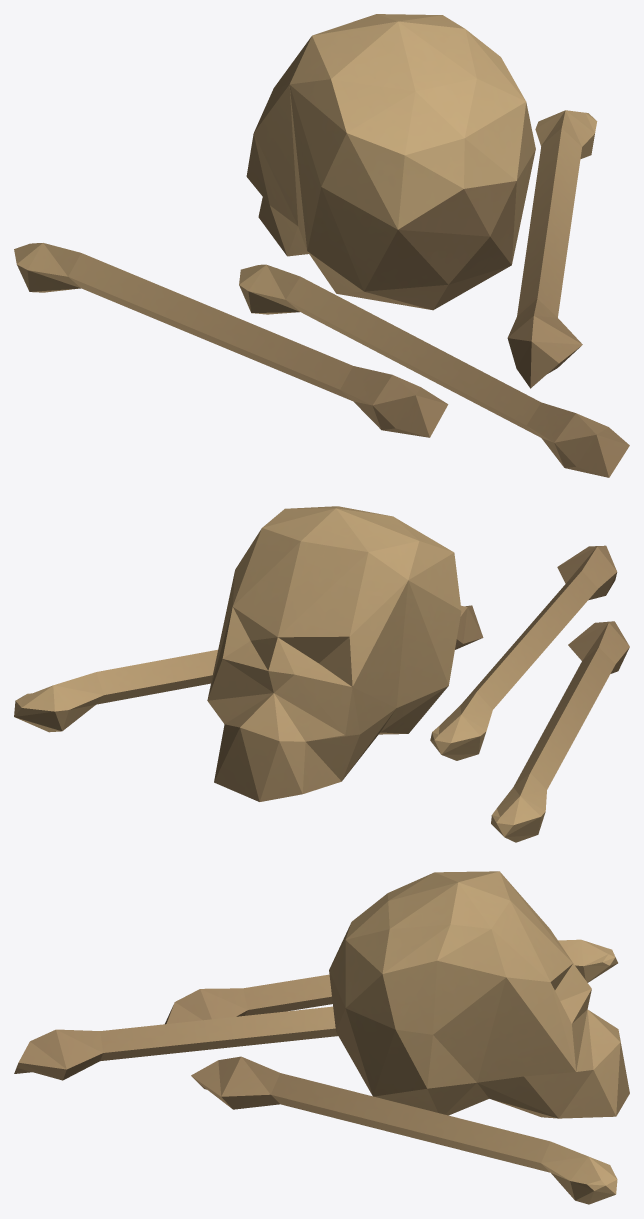
File: Skull_3C.fbx
3 views of the same model, one above another, from view 1: azimuth 30°, elevation 25°; view 2: azimuth 150°, elevation 25°; view 3: azimuth 270°, elevation 25° (orthographic). The views are drawn at different scales.
Visible parts, largest first — view 1: polySurface1332; view 2: polySurface1332; view 3: polySurface1332.
Part boxes in pixels (x1,y1,x2,y2): polySurface1332: (14, 14, 629, 477); polySurface1332: (14, 506, 629, 842); polySurface1332: (14, 871, 629, 1204).
Bounding box in the file's own units: 1.47 × 0.6328 × 1.58.
